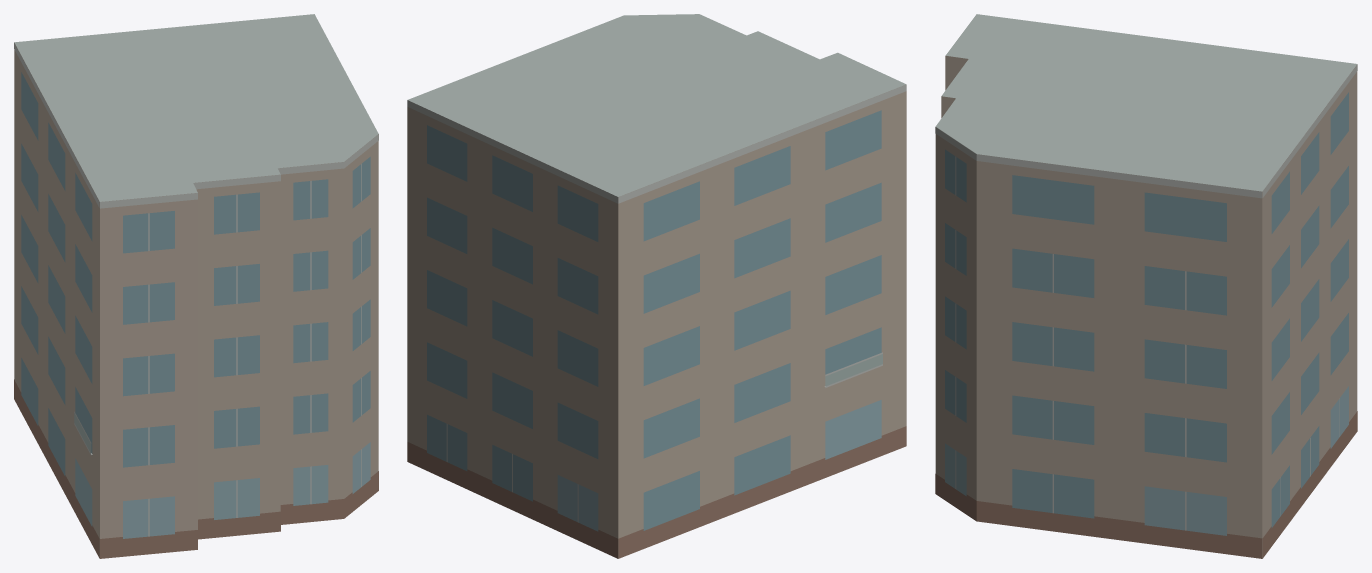
The model's file is survey-upis-32947843.glb.
3 views of the same model, side by side, from view 1: azimuth 30°, elevation 25°; view 2: azimuth 150°, elevation 25°; view 3: azimuth 270°, elevation 25° (orthographic). The views are drawn at different scales.
Visible parts, largest first — view 1: survey-upis-32947843.tmp; view 2: survey-upis-32947843.tmp; view 3: survey-upis-32947843.tmp.
Part boxes in pixels (x1,y1,x2,y2): survey-upis-32947843.tmp: (14, 14, 378, 558); survey-upis-32947843.tmp: (407, 14, 906, 558); survey-upis-32947843.tmp: (935, 14, 1357, 558).
Size of the model in its own units: 13.59 by 13.1 by 13.65.
